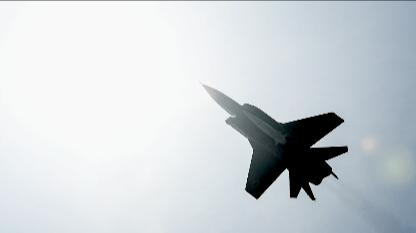Mig31: (198, 81, 348, 202)
